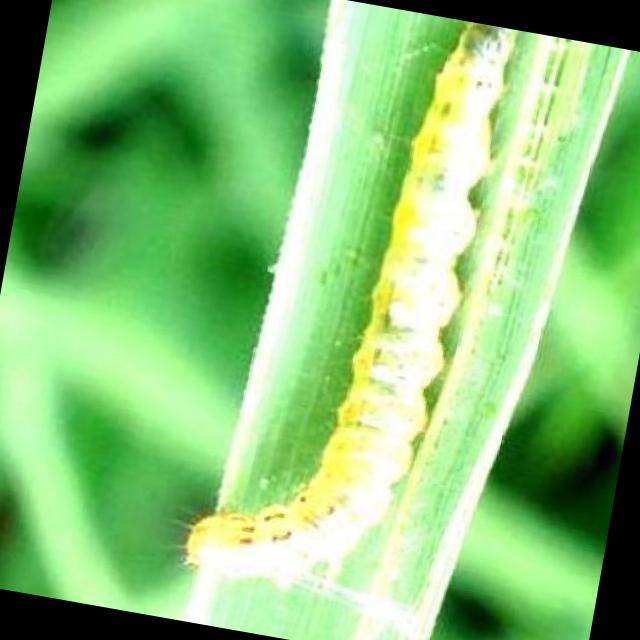leaf-folder: (154, 0, 564, 631)
